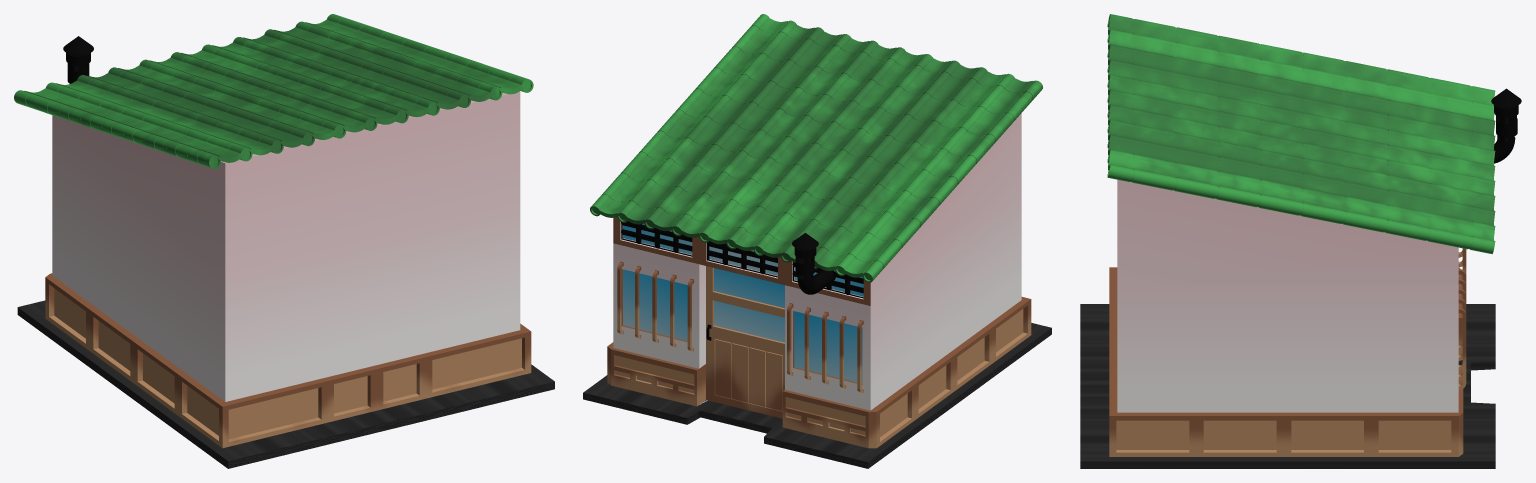
3 renders of one model, left to right at view 1: azimuth 30°, elevation 25°; view 2: azimuth 150°, elevation 25°; view 3: azimuth 270°, elevation 25°, orthographic. The views are drawn at different scales.
Visible parts, largest first — view 1: Cube.018; view 2: Cube.018, Cube.019; view 3: Cube.018.
Boxes of the visible parts, x1,y1,x2,y2 form: Cube.018: (14, 14, 554, 468); Cube.018: (583, 14, 1051, 468); Cube.019: (706, 266, 784, 418); Cube.018: (1080, 14, 1521, 468).
Bounding box in the file's own units: 3.05 × 2.66 × 3.57.
6 materials, 5 textured.
